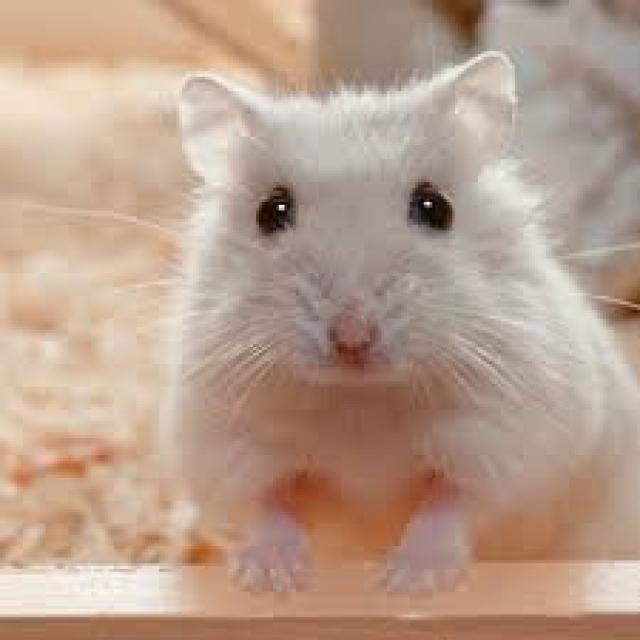hamster: (156, 82, 597, 578)
